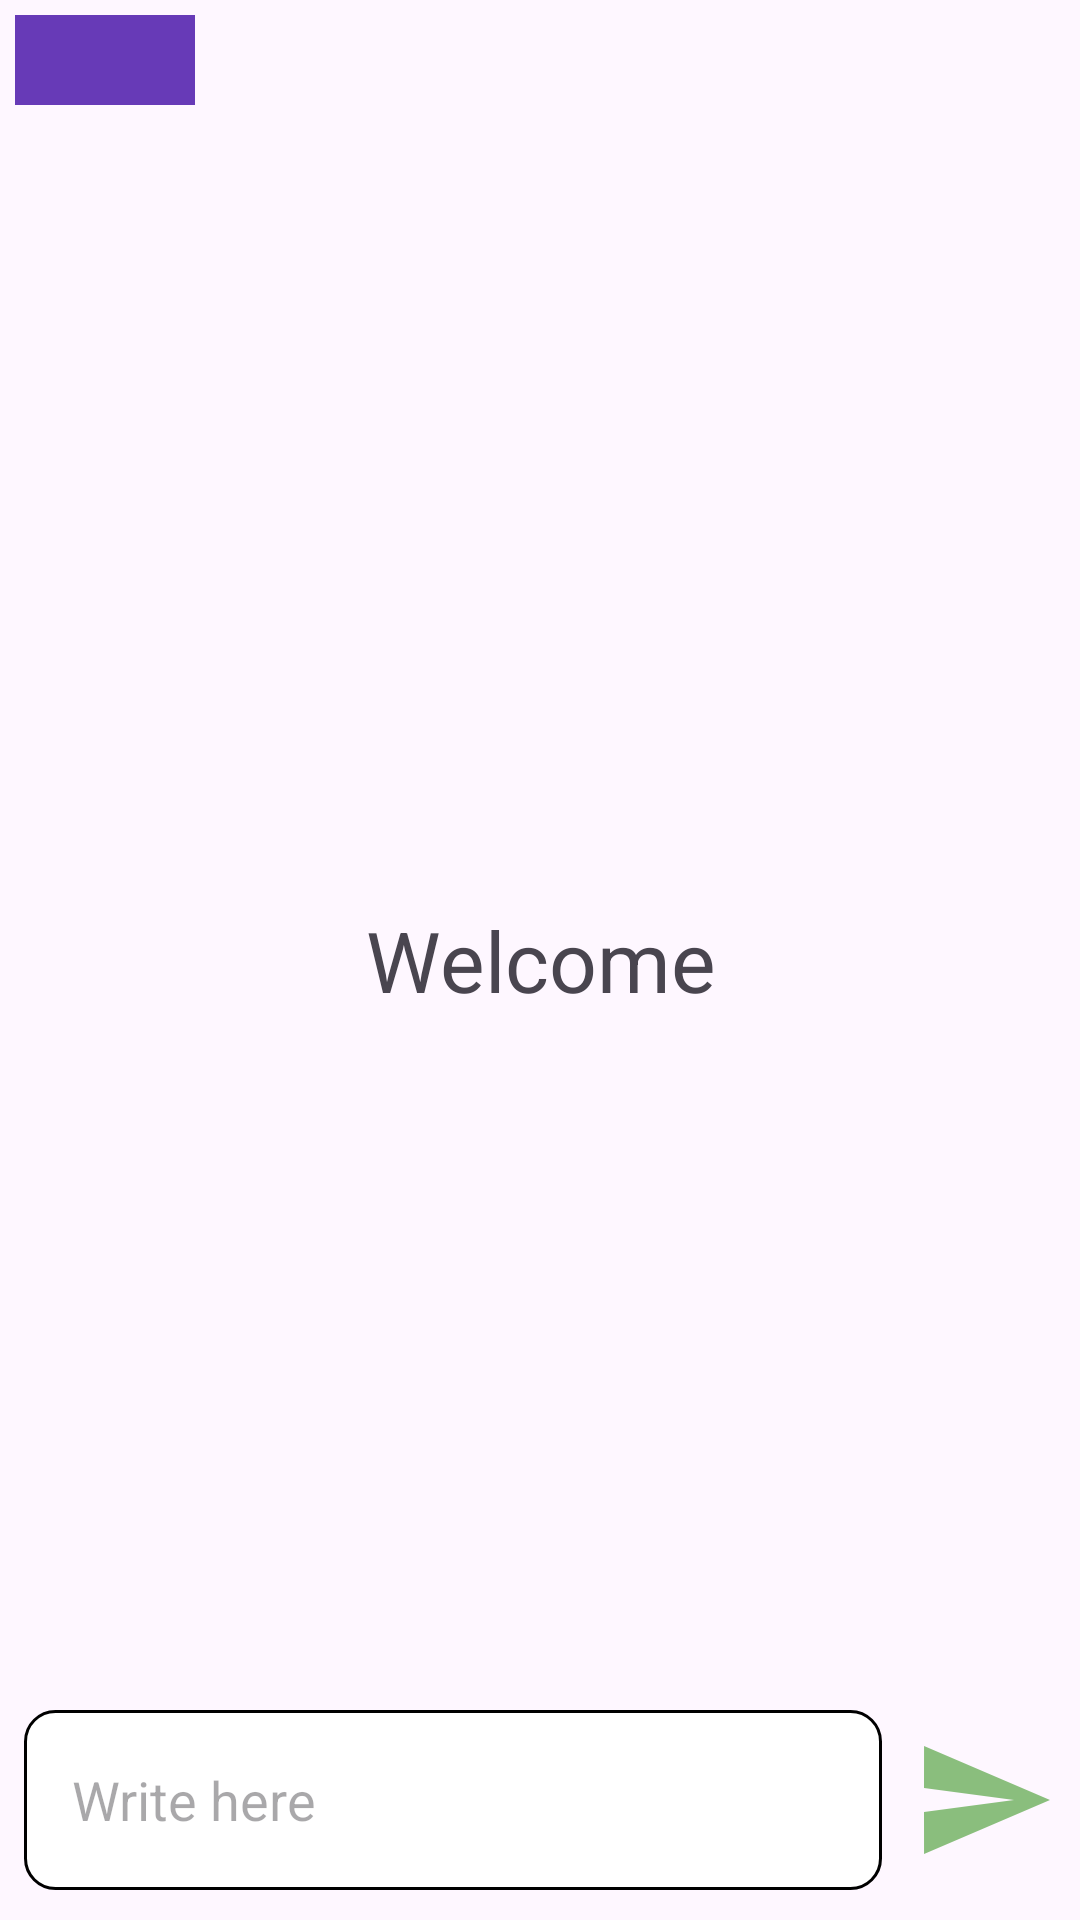

Screen size 1080 x 1920. Icon name, then its center in pixels as (x=x, y=y):
send: (x=987, y=1800)
